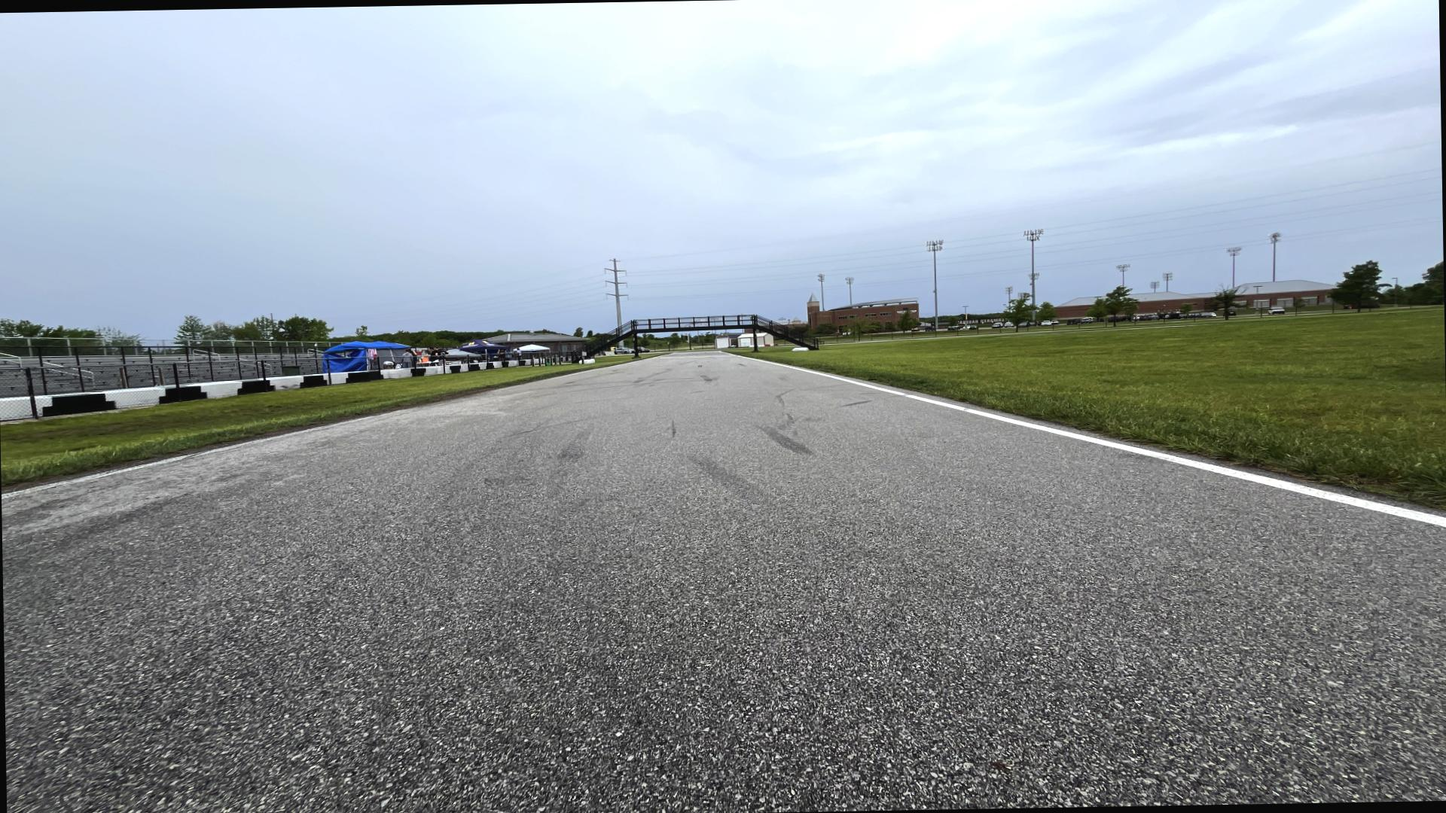white-line: (718, 352, 1445, 528), (2, 411, 404, 498), (482, 353, 673, 393)
